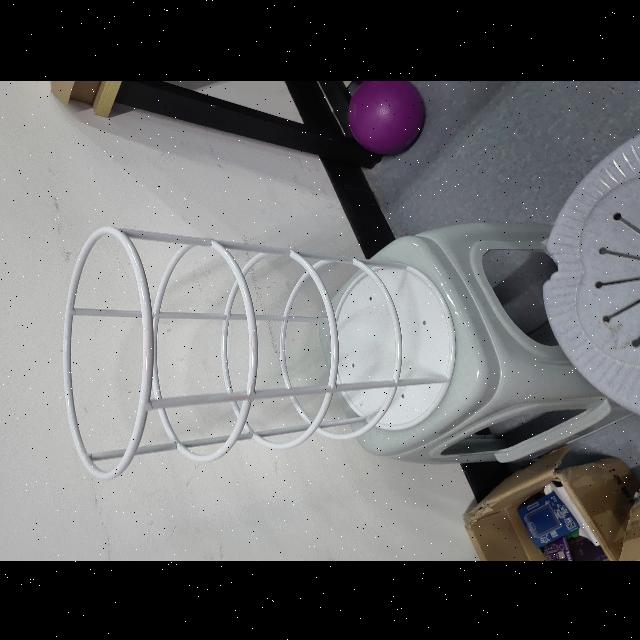S: (61, 223, 460, 482)
